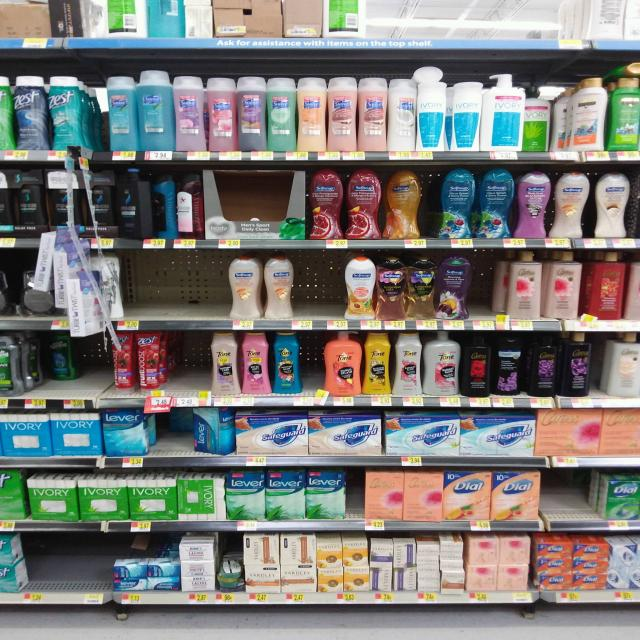unorganised: (227, 252, 297, 320), (114, 161, 175, 239), (555, 74, 609, 153), (447, 80, 483, 151), (371, 539, 418, 593), (190, 407, 236, 457), (523, 77, 552, 153), (176, 477, 226, 520), (41, 330, 79, 385)
